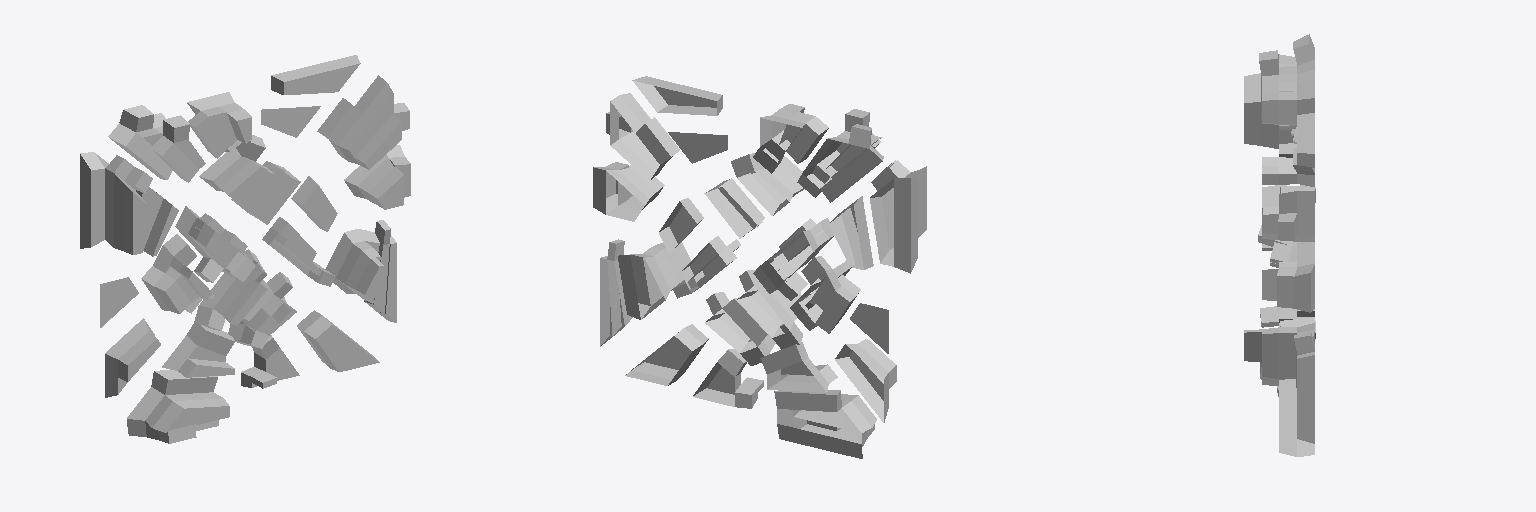
The model's file is my_city2.obj.
3 renders of one model, left to right at view 1: azimuth 30°, elevation 25°; view 2: azimuth 150°, elevation 25°; view 3: azimuth 270°, elevation 25°, orthographic.
Visible parts, largest first — view 1: vertical, up; view 2: vertical, down, up; view 3: vertical.
Part boxes in pixels (x1,y1,x2,y2): vertical: (80,55,410,443); up: (91,63,410,443); vertical: (594,76,926,446); down: (593,113,910,458); up: (610,86,888,430); vertical: (1244,34,1315,456).
Bounding box in the file's own units: 103 × 101 × 20.32.